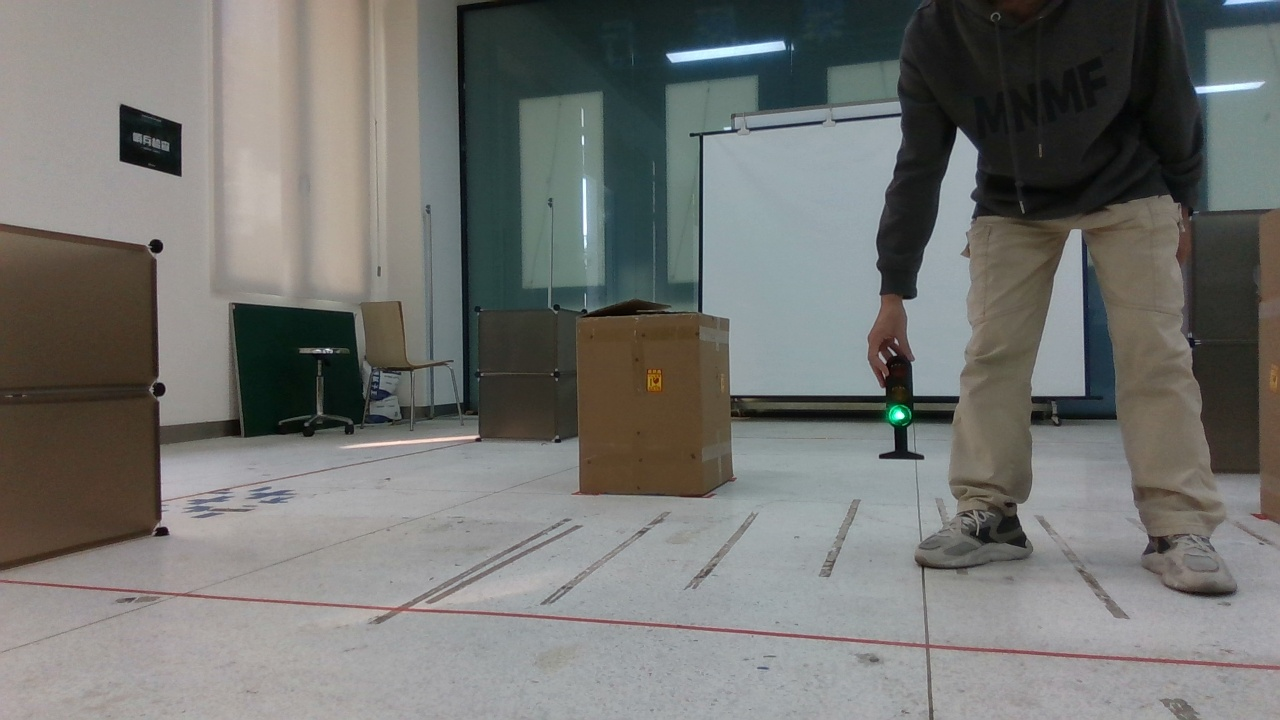green_light: (877, 348, 939, 469)
